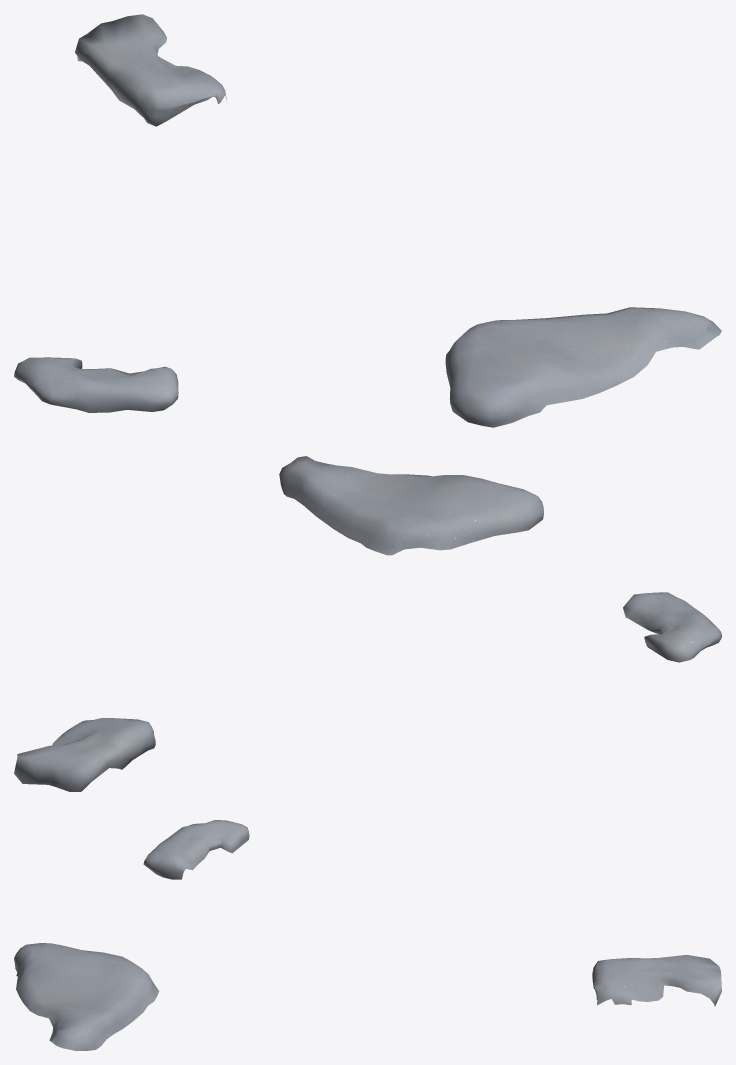
Rendered from pref_sm_beach_winter_grass_snow01_mirror_lv3.fbx.
The picture shows the model from 3 angles, top to bottom: view 1: azimuth 30°, elevation 25°; view 2: azimuth 150°, elevation 25°; view 3: azimuth 270°, elevation 25°; orthographic projection. The views are drawn at different scales.
Parts seen in each view (by area): view 1: pref_sm_beach_winter_grass_snow01_mirror_lv3; view 2: pref_sm_beach_winter_grass_snow01_mirror_lv3; view 3: pref_sm_beach_winter_grass_snow01_mirror_lv3.
Boxes of the visible parts, x1,y1,x2,y2 form: pref_sm_beach_winter_grass_snow01_mirror_lv3: [14, 14, 721, 427]; pref_sm_beach_winter_grass_snow01_mirror_lv3: [14, 456, 721, 791]; pref_sm_beach_winter_grass_snow01_mirror_lv3: [14, 820, 721, 1050].
Bounding box in the file's own units: 15.03 × 1.02 × 21.08.
